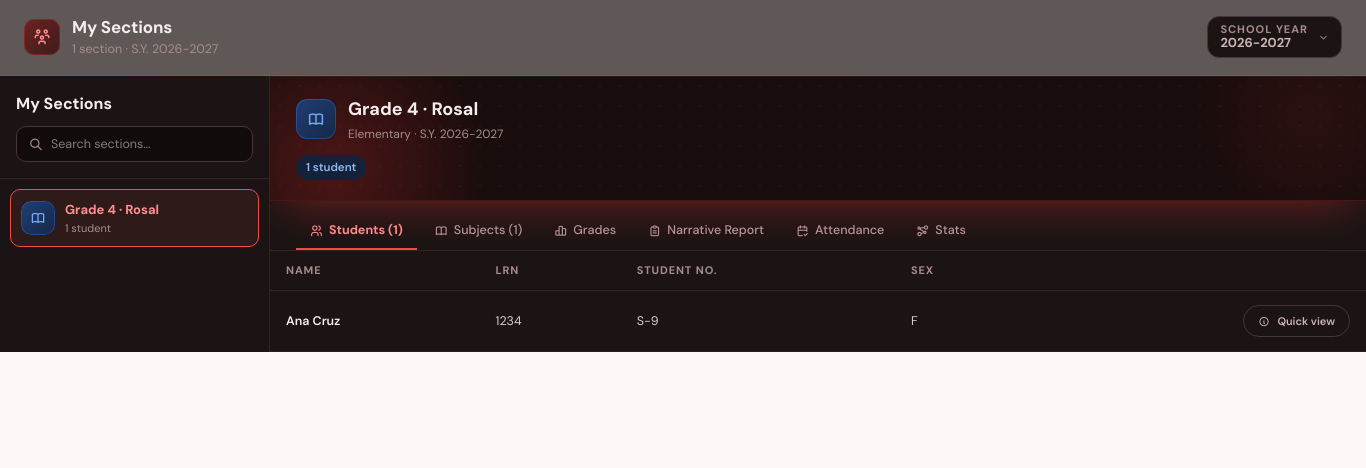
Test: TeacherSectionsPage — dark mode › marks attendance, Late in dark's warning pair
Click the button "Attendance": (840, 231) [782, 213, 898, 250]
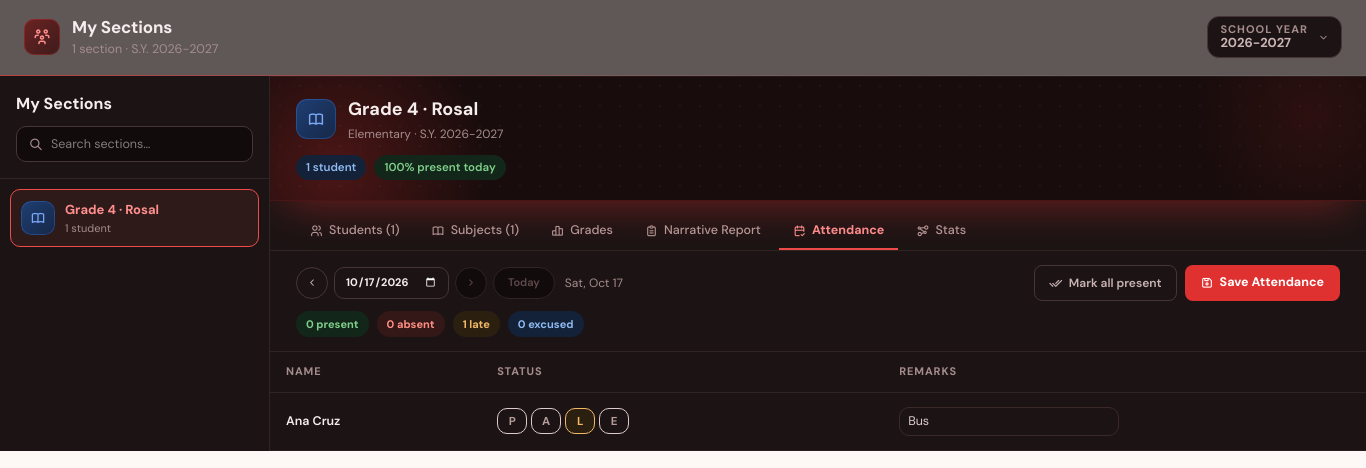
Result: the text "1 late" is shown at [453, 310, 500, 337]
Result: the button "Save Attendance" is shown at [1185, 264, 1340, 300]
